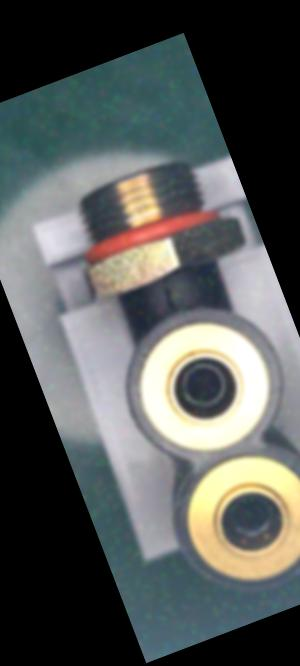craze: (151, 269, 188, 317)
